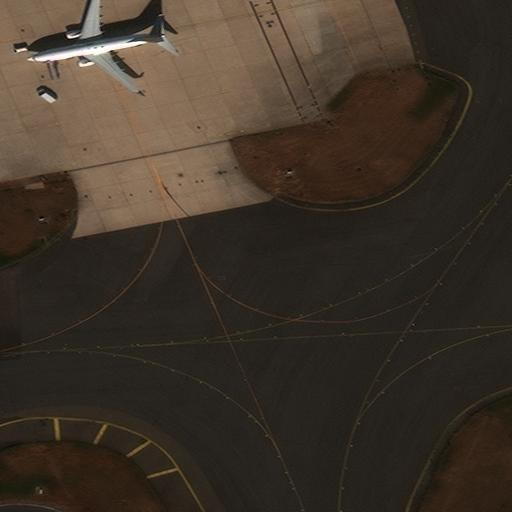Medium Civil Transport: (27, 0, 165, 93)
